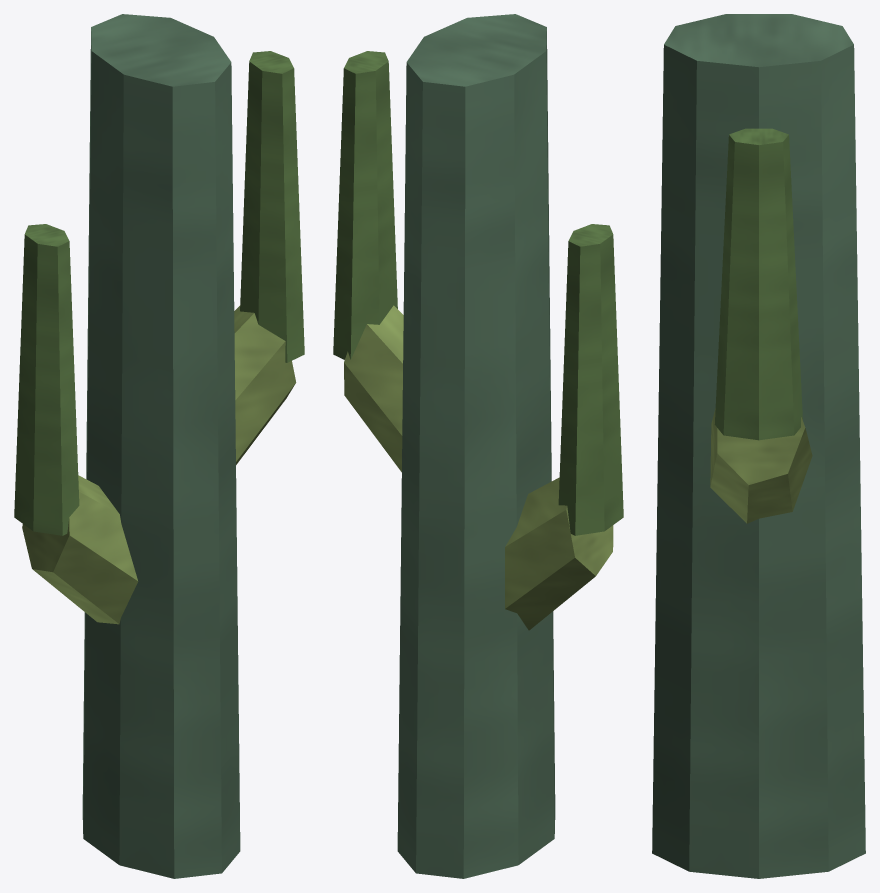
Rendered from cactus_set_03.fbx.
3 views of the same model, side by side, from view 1: azimuth 30°, elevation 25°; view 2: azimuth 150°, elevation 25°; view 3: azimuth 270°, elevation 25° (orthographic). The views are drawn at different scales.
Visible parts, largest first — view 1: cactus_set_03; view 2: cactus_set_03; view 3: cactus_set_03.
Part boxes in pixels (bbox=[...]): cactus_set_03: bbox=[14, 14, 304, 878]; cactus_set_03: bbox=[333, 14, 623, 878]; cactus_set_03: bbox=[652, 14, 865, 878].
Size of the model in its own units: 81.87 by 225 by 54.
1 material, 1 textured.
